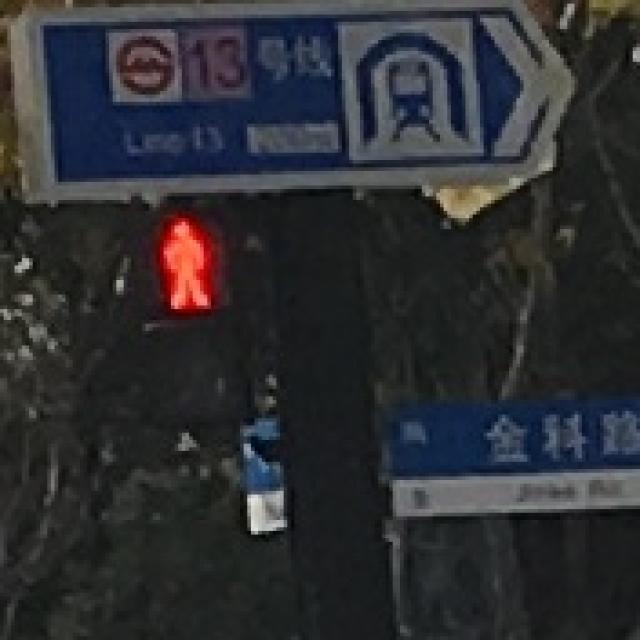red-crossing: (142, 207, 230, 309)
